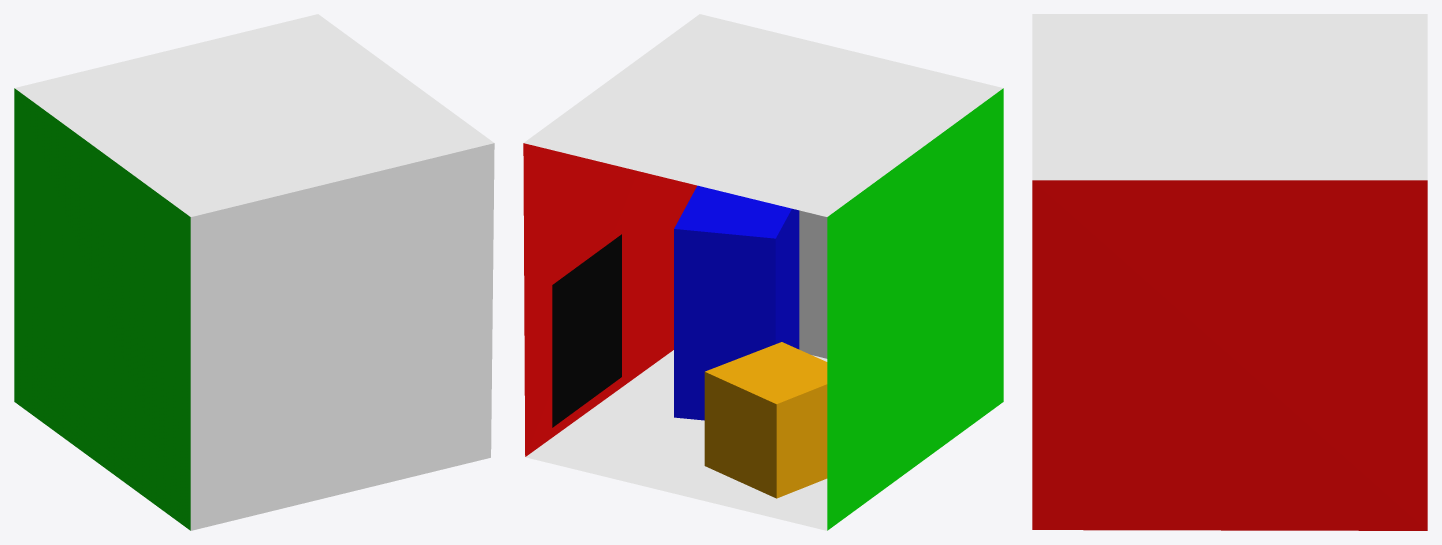
File: cornell_box_VI.obj
3 views of the same model, side by side, from view 1: azimuth 30°, elevation 25°; view 2: azimuth 150°, elevation 25°; view 3: azimuth 270°, elevation 25° (orthographic). The views are drawn at different scales.
Parts seen in each view (by area): view 1: back_wall, green_wall, ceiling; view 2: green_wall, ceiling, red_wall, tall_block, floor, short_block, mirror, back_wall; view 3: red_wall, ceiling.
Boxes of the visible parts, x1,y1,x2,y2 form: back_wall: [190, 143, 494, 530]; green_wall: [14, 88, 190, 530]; ceiling: [14, 14, 493, 216]; green_wall: [827, 88, 1003, 530]; ceiling: [524, 14, 1003, 216]; red_wall: [523, 143, 696, 456]; tall_block: [674, 185, 799, 420]; floor: [525, 350, 827, 530]; short_block: [704, 342, 827, 498]; mirror: [552, 234, 621, 427]; back_wall: [799, 210, 827, 358]; red_wall: [1032, 180, 1427, 530]; ceiling: [1032, 14, 1427, 180].
Bounding box in the file's own units: 556 × 549 × 559.
